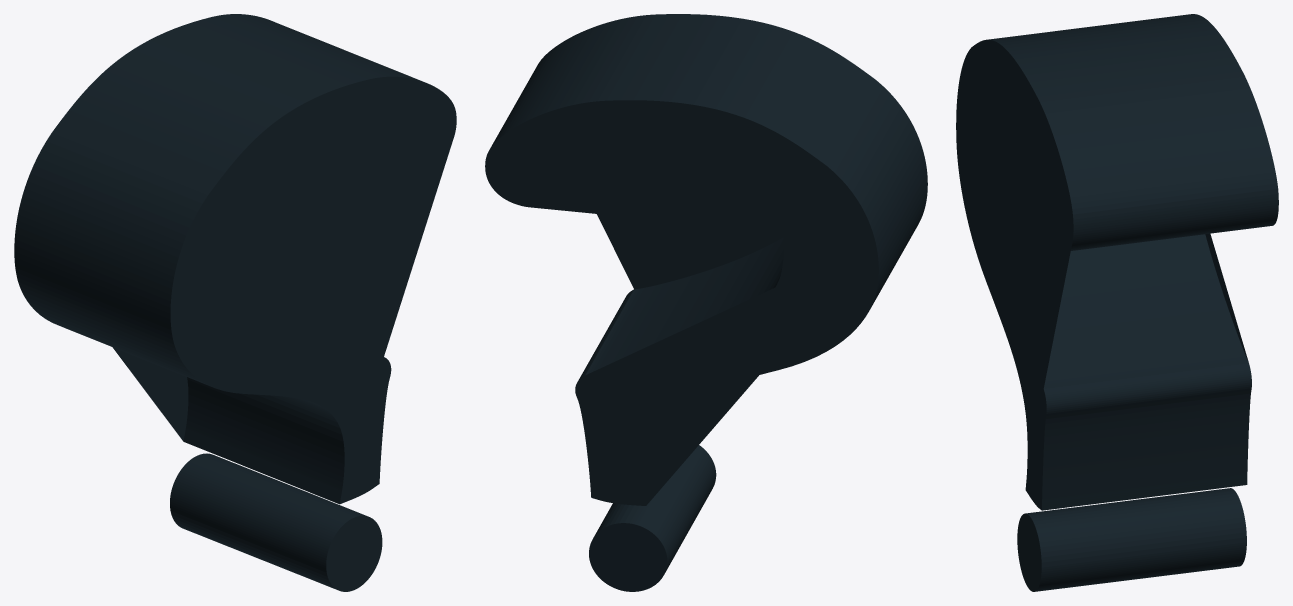
Rendered from 10_questionBlack.fbx.
3 views of the same model, side by side, from view 1: azimuth 30°, elevation 25°; view 2: azimuth 150°, elevation 25°; view 3: azimuth 270°, elevation 25° (orthographic). The views are drawn at different scales.
Parts seen in each view (by area): view 1: Curve.007; view 2: Curve.007; view 3: Curve.007.
Part boxes in pixels (x1,y1,x2,y2): Curve.007: [14, 14, 456, 591]; Curve.007: [485, 14, 927, 591]; Curve.007: [956, 14, 1278, 591].
Bounding box in the file's own units: 95.54 × 117 × 67.45.
